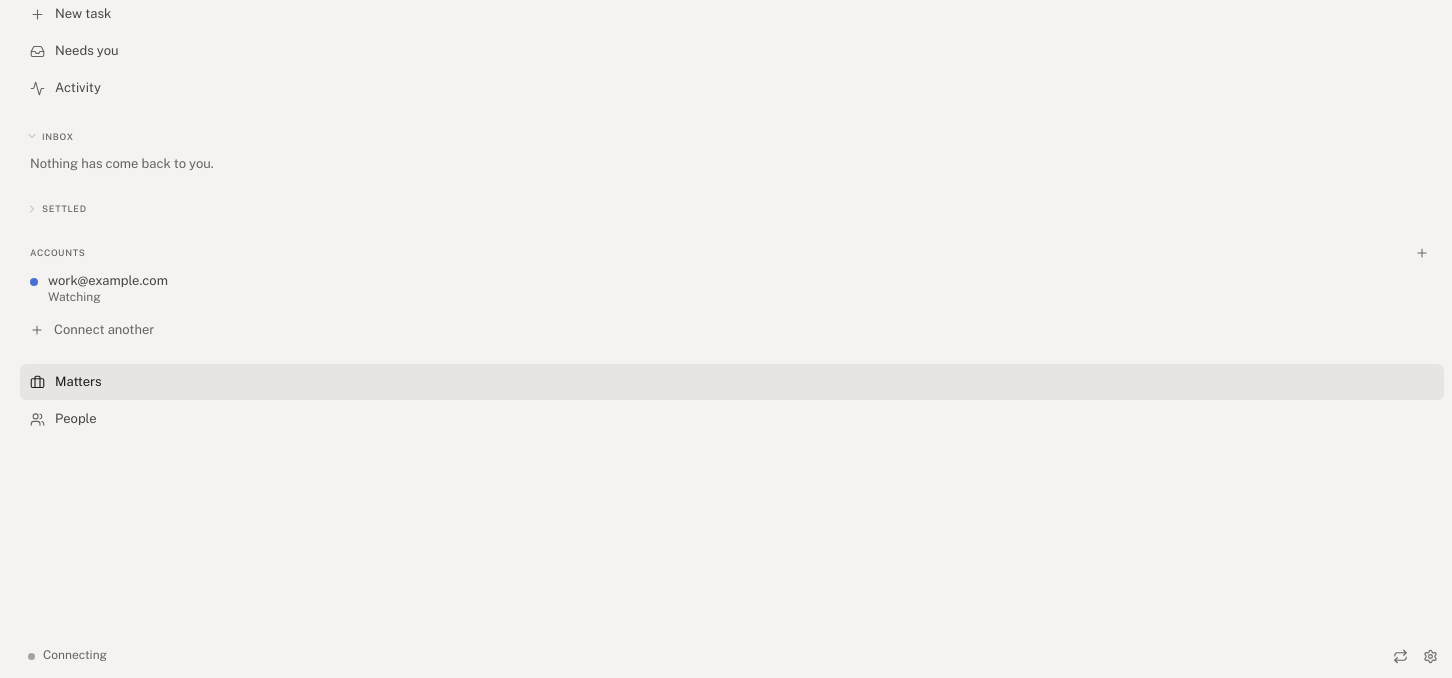
account onboarding in the shell › scopes to one account from the sidebar while preserving other filters
This screenshot has width=1452, height=678.
Click the button "work@example.com Watching". click: (108, 280)
box: [20, 267, 1444, 311]
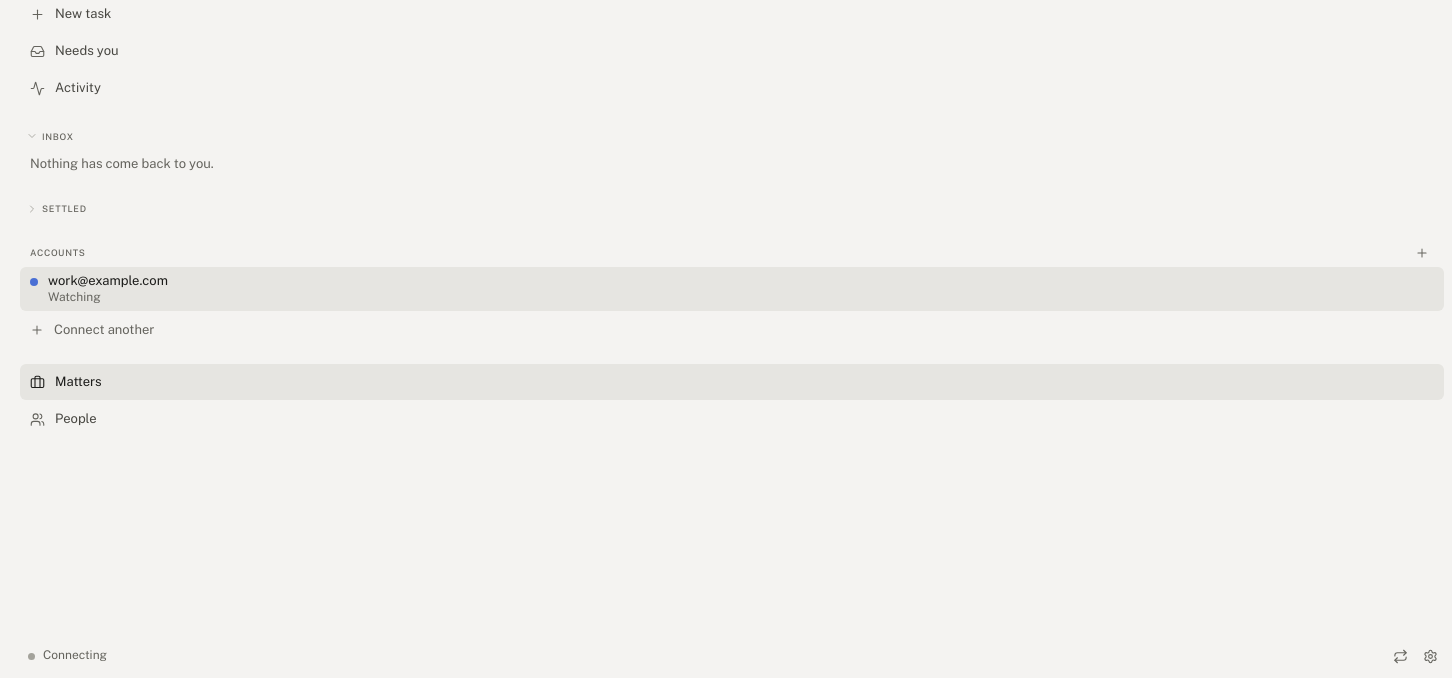
Expected: the button "work@example.com Watching" is pressed
Click the button "work@example.com Watching". click: (108, 280)
box: [20, 267, 1444, 311]
(page scrolled)
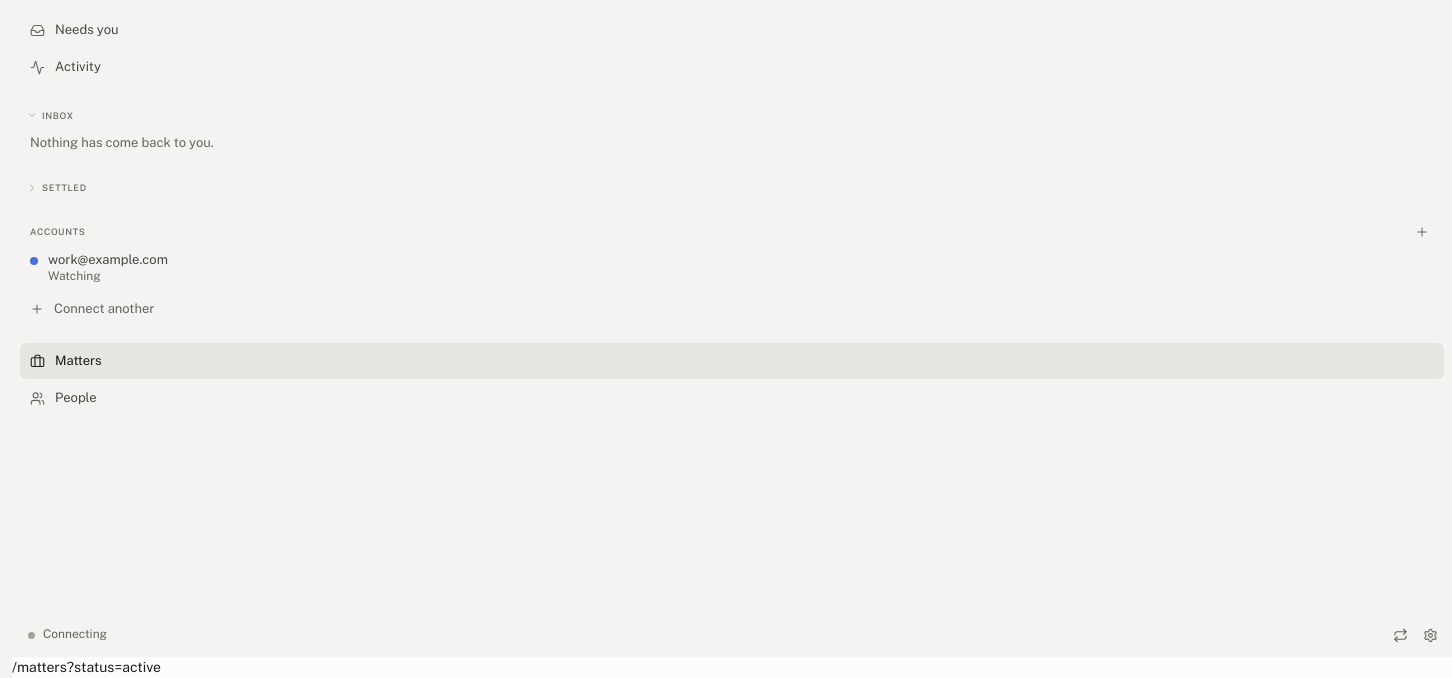
Expected: the text named "location" reads "/matters?status=active", [12, 659, 161, 675]
